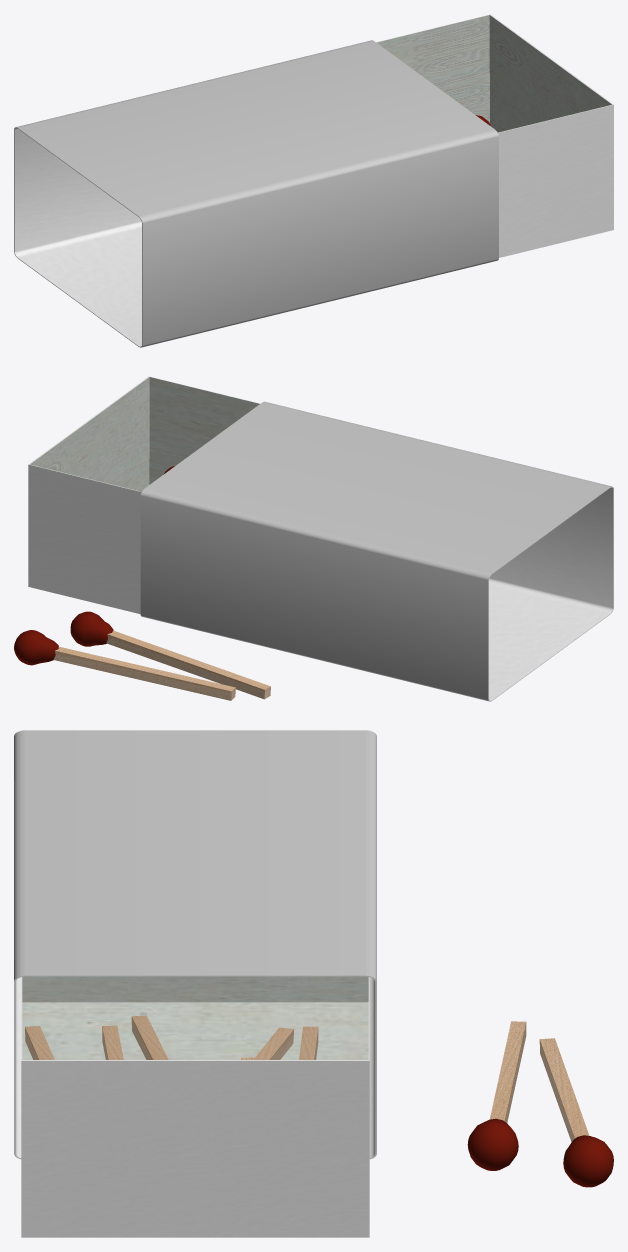
The model's file is boite_d_allumettes_002.fbx.
The picture shows the model from 3 angles, top to bottom: view 1: azimuth 30°, elevation 25°; view 2: azimuth 150°, elevation 25°; view 3: azimuth 270°, elevation 25°; orthographic projection. The views are drawn at different scales.
Visible parts, largest first — view 1: outer, inner; view 2: outer, inner, stick.001, stick.002; view 3: outer, inner, stick.001, stick.002, stick.010, stick.011, stick.008.
Boxes of the visible parts, box(x1,y1,x2,y2) form: outer: box(14, 40, 498, 347); inner: box(376, 14, 613, 257); outer: box(140, 401, 613, 701); inner: box(28, 376, 260, 614); stick.001: box(14, 630, 235, 700); stick.002: box(70, 611, 270, 699); outer: box(14, 730, 376, 1159); inner: box(21, 976, 369, 1237); stick.001: box(539, 1038, 613, 1187); stick.002: box(467, 1021, 526, 1170); stick.010: box(131, 1015, 168, 1059); stick.011: box(253, 1027, 293, 1059); stick.008: box(25, 1026, 54, 1059).
Bounding box in the file's own units: 10.64 × 2.8 × 8.26.
